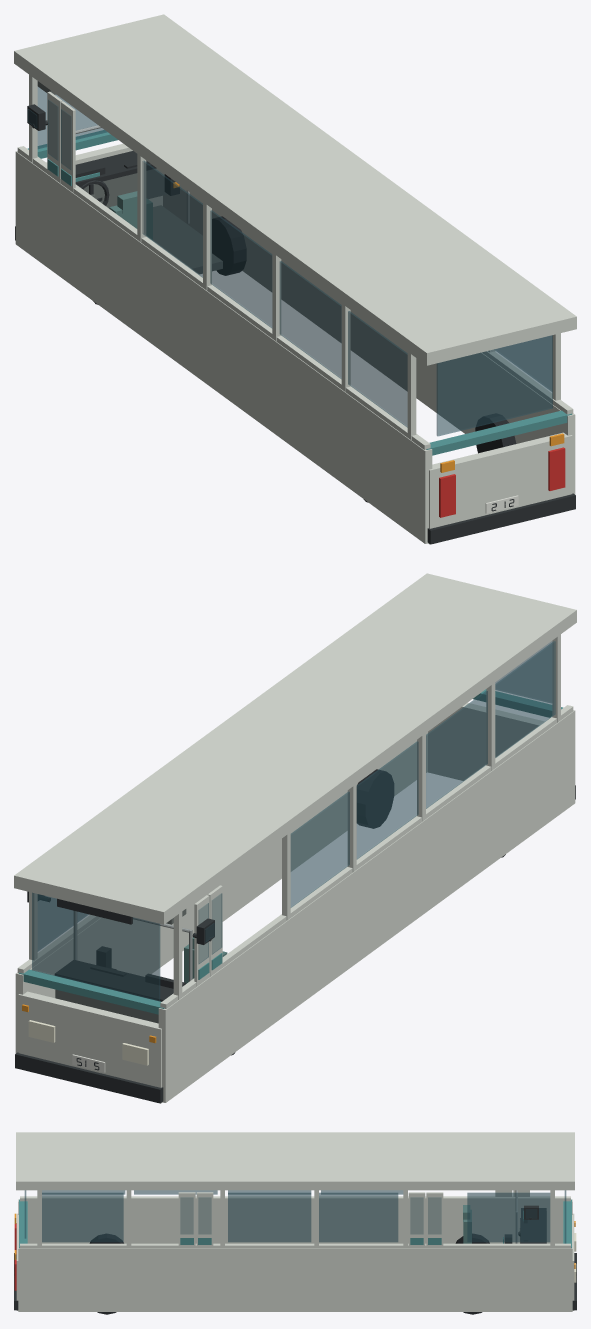
The model's file is bus_almaty_212.glb.
3 renders of one model, top to bottom at view 1: azimuth 30°, elevation 25°; view 2: azimuth 150°, elevation 25°; view 3: azimuth 270°, elevation 25°, orthographic. The views are drawn at different scales.
Visible parts, largest first — view 1: body_roof, body_lower_left, body_lower_right, window_rear, body_rear_lower, window_side_left_1, window_side_left_2, window_side_left_3, window_side_left_0, belt_left, bumper_rear, driver_cabin_floor (+17 smaller); view 2: body_roof, body_lower_left, body_lower_right, window_windshield, body_front_lower, body_rear_lower, window_side_left_2, window_side_left_1, window_side_left_0, window_side_left_3, belt_left, bumper_front (+16 smaller); view 3: body_lower_right, body_roof, body_lower_left, window_side_right_1, window_side_right_0, window_side_right_3, window_side_right_2, belt_right, belt_left, door_panel_right_rear_1, door_panel_right_front_1, door_panel_right_front_2 (+21 smaller).
Boxes of the visible parts, left/top/right/bottom form: body_roof: left=14, top=14, right=576, bottom=365; body_lower_left: left=15, top=151, right=432, bottom=543; body_lower_right: left=163, top=187, right=575, bottom=494; window_rear: left=436, top=335, right=552, bottom=436; body_rear_lower: left=428, top=432, right=572, bottom=544; window_side_left_1: left=279, top=261, right=341, bottom=378; window_side_left_2: left=210, top=210, right=272, bottom=327; window_side_left_3: left=142, top=161, right=202, bottom=277; window_side_left_0: left=348, top=311, right=407, bottom=427; belt_left: left=17, top=146, right=430, bottom=449; bumper_rear: left=427, top=493, right=575, bottom=544; driver_cabin_floor: left=153, top=205, right=222, bottom=274; body_roof: left=14, top=573, right=576, bottom=924; body_lower_left: left=158, top=710, right=575, bottom=1102; body_lower_right: left=15, top=732, right=427, bottom=1053; window_windshield: left=32, top=892, right=160, bottom=1001; body_front_lower: left=18, top=991, right=162, bottom=1103; body_rear_lower: left=428, top=702, right=544, bottom=780; window_side_left_2: left=356, top=741, right=418, bottom=859; window_side_left_1: left=426, top=690, right=487, bottom=808; window_side_left_0: left=495, top=641, right=555, bottom=757; window_side_left_3: left=290, top=791, right=349, bottom=907; belt_left: left=160, top=705, right=573, bottom=1008; bumper_front: left=15, top=1052, right=163, bottom=1103; body_lower_right: left=18, top=1246, right=572, bottom=1311; body_roof: left=16, top=1132, right=574, bottom=1190; body_lower_left: left=18, top=1199, right=572, bottom=1243; window_side_right_1: left=228, top=1192, right=311, bottom=1242; window_side_right_0: left=42, top=1192, right=123, bottom=1242; window_side_right_3: left=467, top=1192, right=550, bottom=1242; window_side_right_2: left=319, top=1192, right=398, bottom=1242; belt_right: left=20, top=1243, right=570, bottom=1248; belt_left: left=20, top=1196, right=570, bottom=1201; door_panel_right_rear_1: left=408, top=1192, right=425, bottom=1248; door_panel_right_front_1: left=426, top=1192, right=443, bottom=1248; door_panel_right_front_2: left=196, top=1192, right=213, bottom=1248.
Size of the model in its own units: 2.97 by 3.18 by 12.
